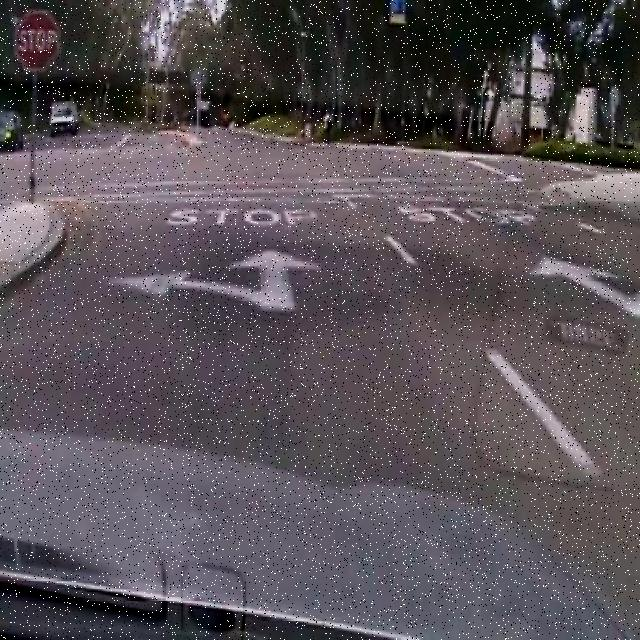Stop: (14, 10, 60, 74)
